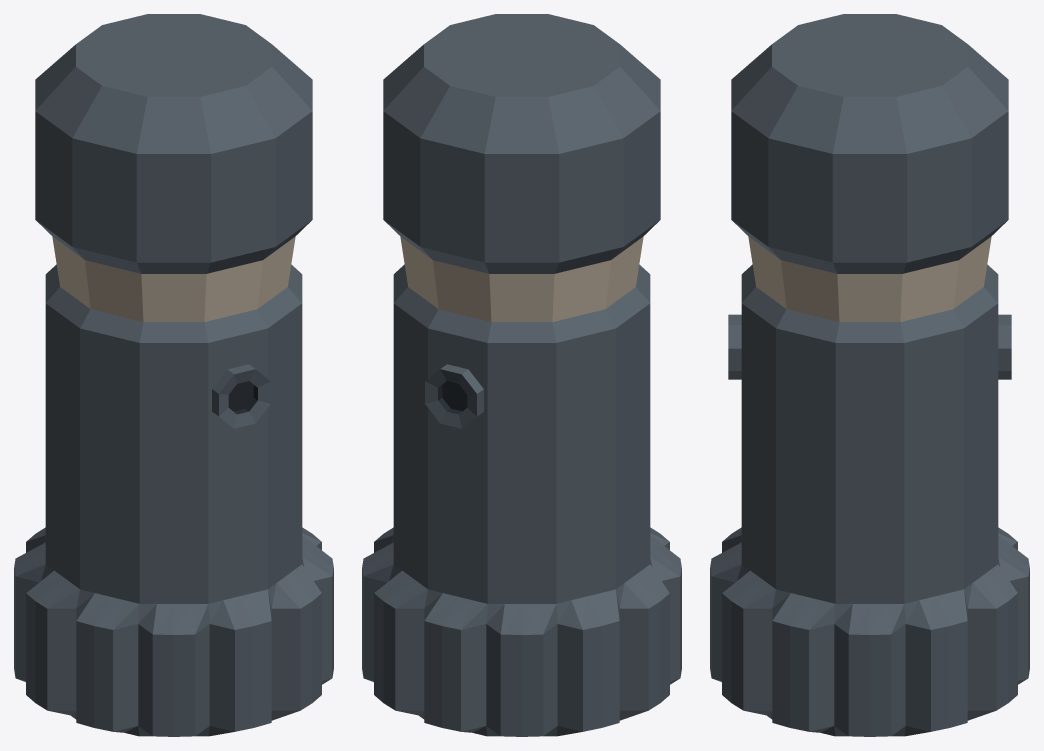
The model's file is illuminated-bollard-9af752.glb.
The picture shows the model from 3 angles, left to right: view 1: azimuth 30°, elevation 25°; view 2: azimuth 150°, elevation 25°; view 3: azimuth 270°, elevation 25°; orthographic projection.
Parts seen in each view (by area): view 1: illuminated-bollard; view 2: illuminated-bollard; view 3: illuminated-bollard.
Boxes of the visible parts, x1,y1,x2,y2 form: illuminated-bollard: [14, 14, 333, 736]; illuminated-bollard: [362, 14, 681, 736]; illuminated-bollard: [710, 14, 1029, 736].
Bounding box in the file's own units: 0.472 × 1.02 × 0.472.
